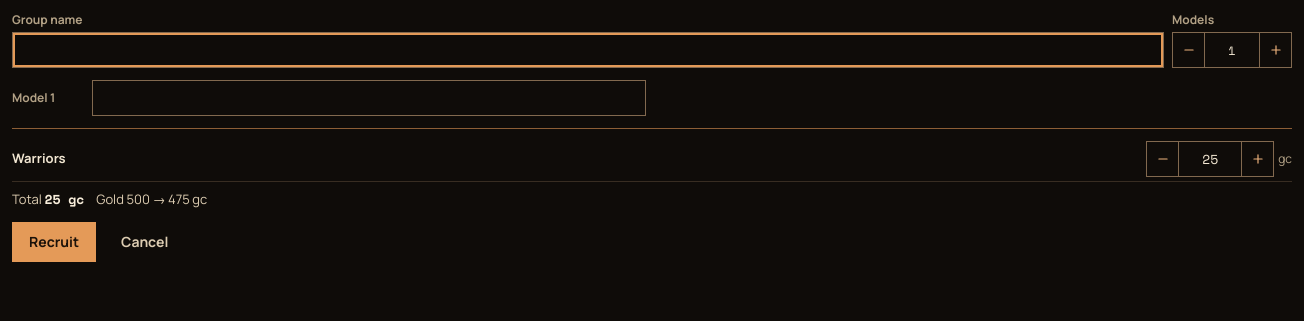
Test: Naming a group's models as it is recruited from the list › gives a name field per model, following Models
The image size is (1304, 321).
Expected: the number of fields labelled "Model 1" is 1, [92, 80, 646, 116]
Click the button named "More" at {"x": 1276, "y": 50}, box [1260, 32, 1292, 68]
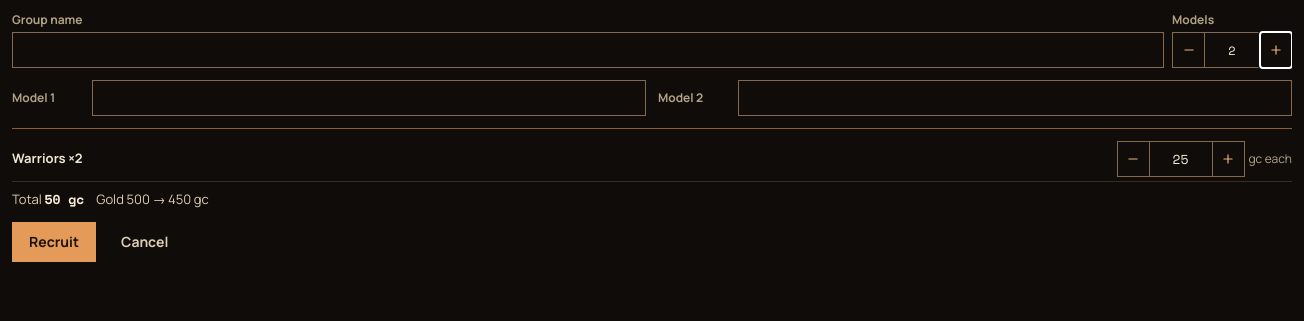
Click the button named "More" at {"x": 1276, "y": 50}, box [1260, 32, 1292, 68]
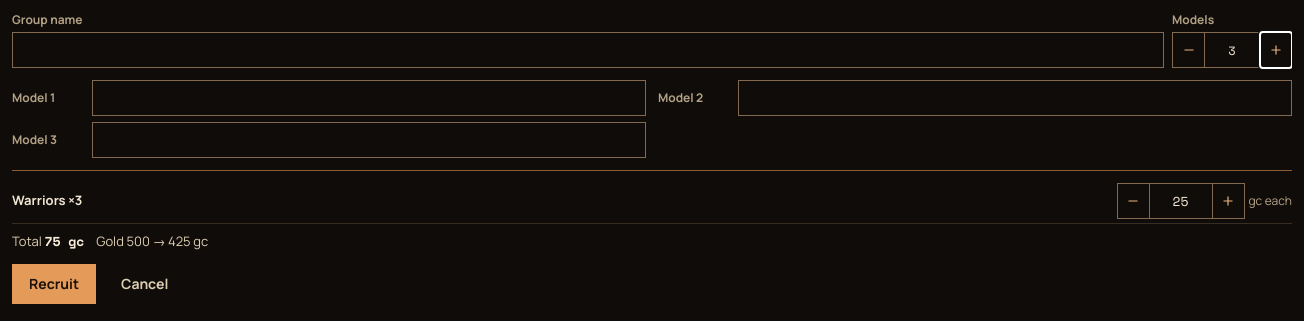
Expected: the number of fields labelled "Model 1" is 3
Expected: the field labelled "Model 3" is empty
Type "Kurt" into the field labelled "Model 3" at {"x": 369, "y": 140}, box [92, 122, 646, 158]
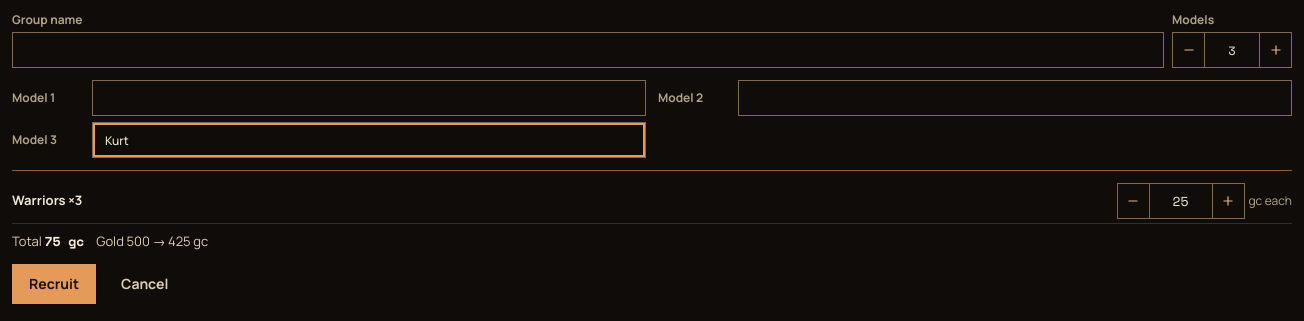
Click the button named "Less" at {"x": 1188, "y": 50}, box [1172, 32, 1204, 68]
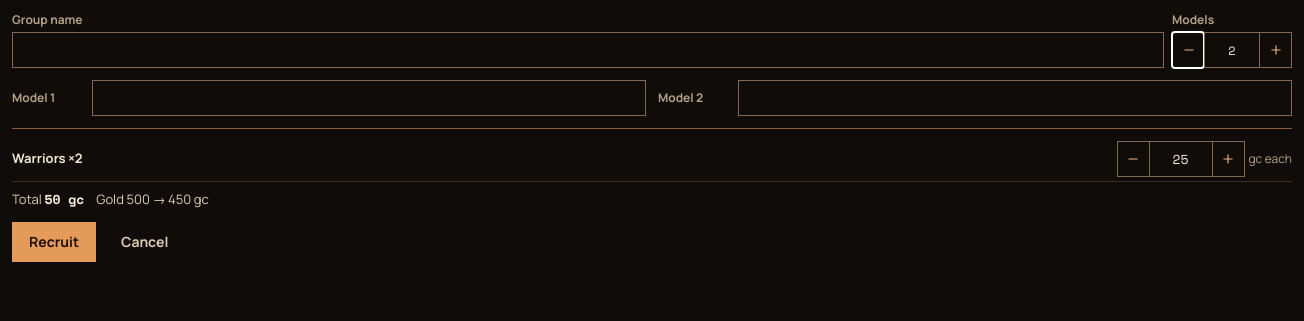
Expected: the number of fields labelled "Model 1" is 2, [92, 80, 646, 116]; [738, 80, 1292, 116]
Expected: the label labelled "Model 3" is gone
